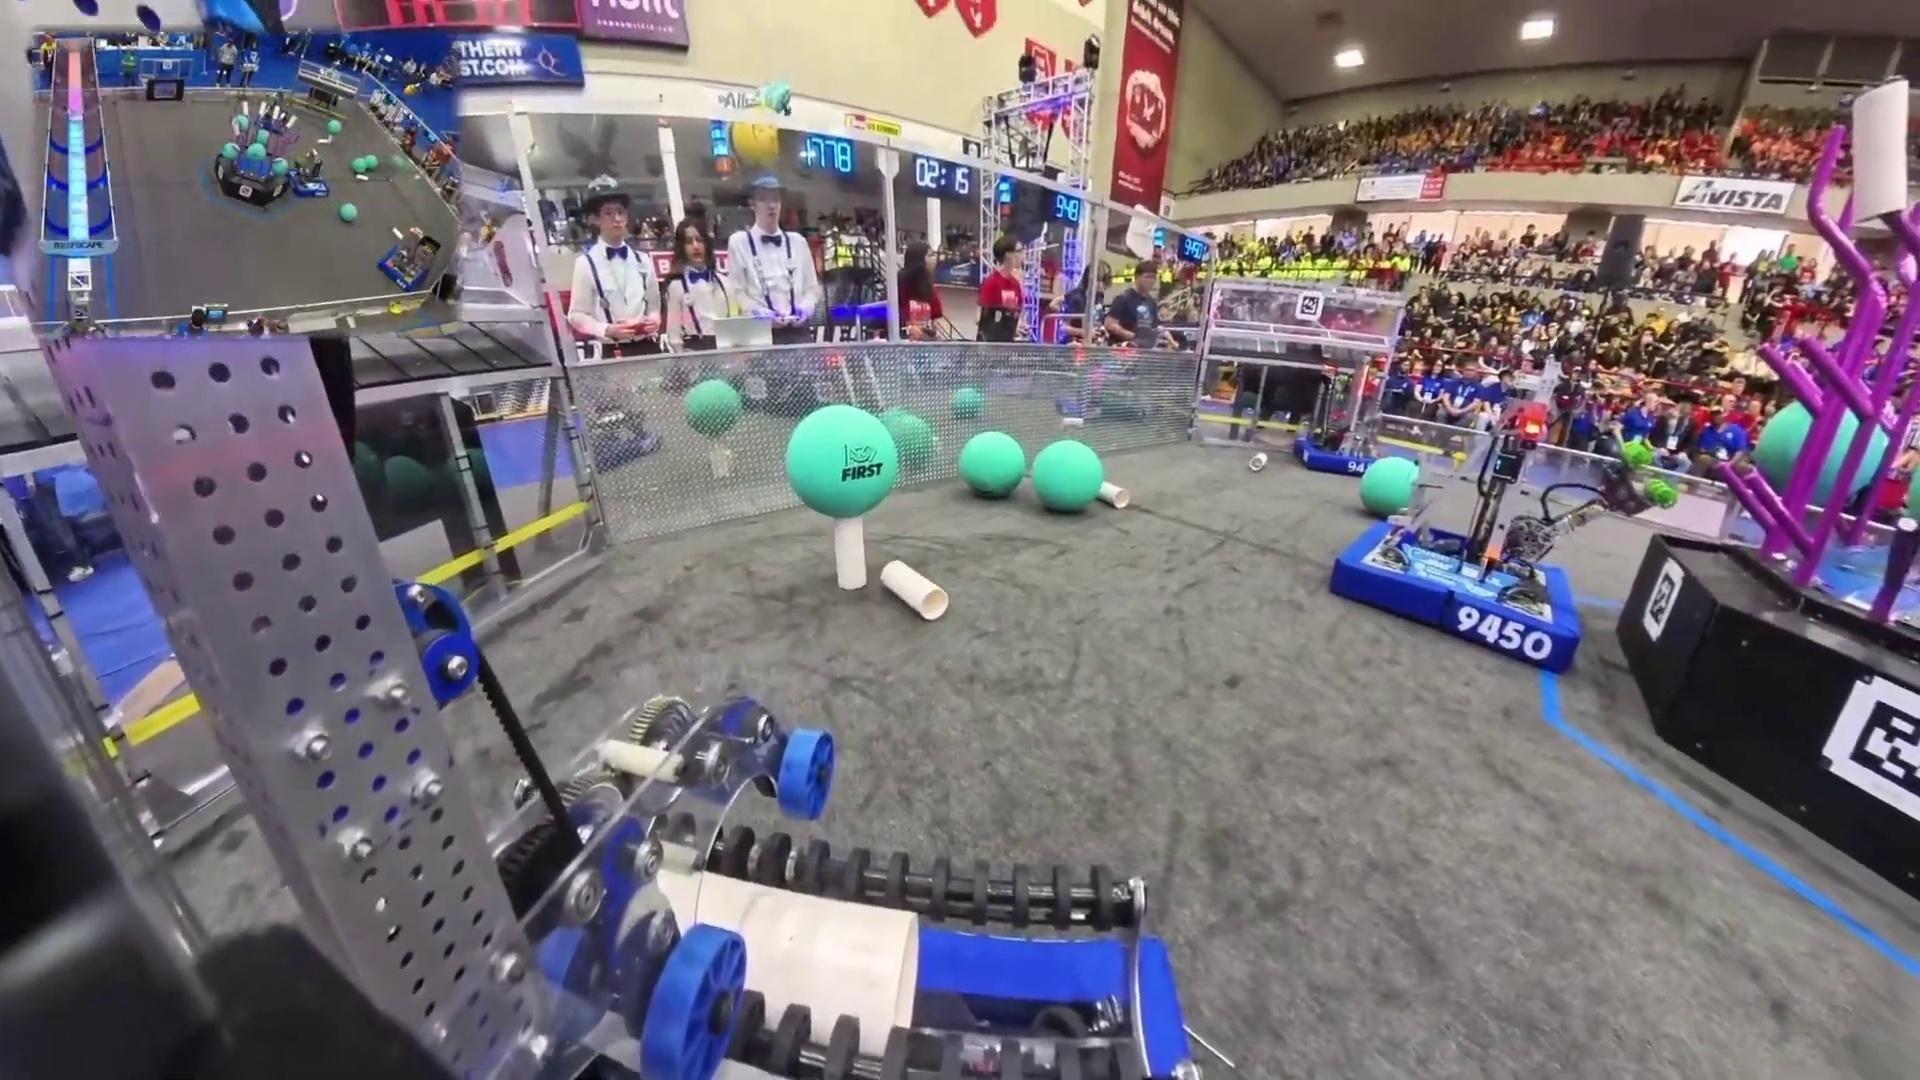robot: (1329, 357, 1592, 676), (1295, 361, 1382, 476), (377, 224, 443, 293), (287, 148, 331, 200)
